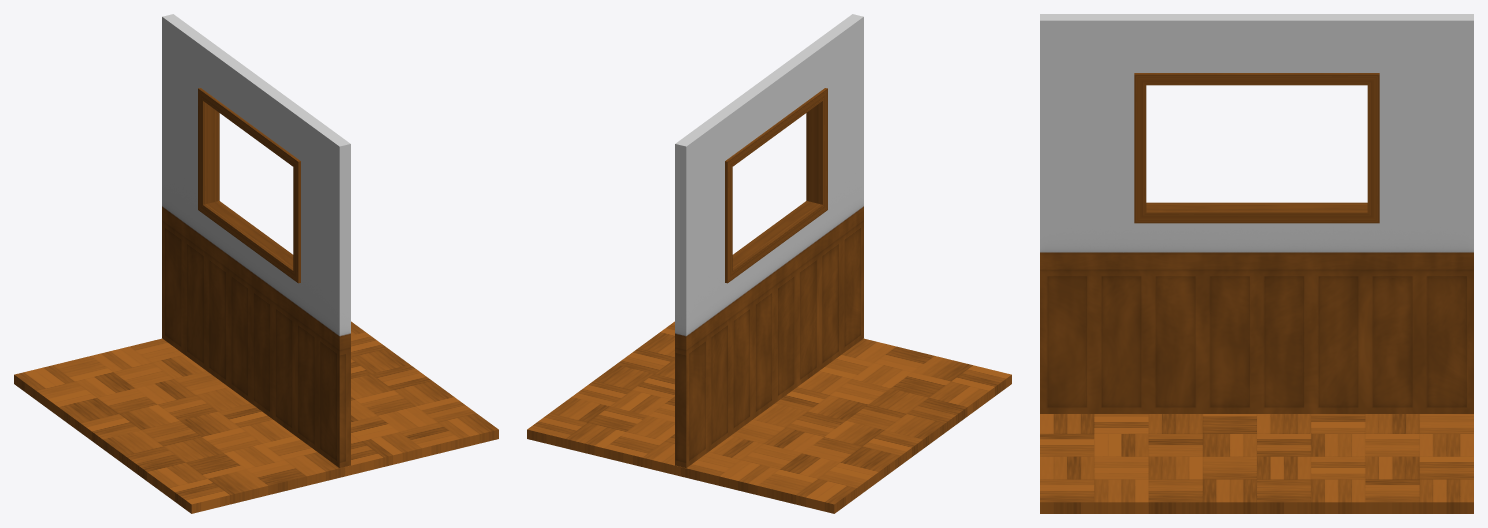
Rendered from window.glb.
3 renders of one model, left to right at view 1: azimuth 30°, elevation 25°; view 2: azimuth 150°, elevation 25°; view 3: azimuth 270°, elevation 25°, orthographic. The views are drawn at different scales.
Visible parts, largest first — view 1: floor; view 2: floor; view 3: floor.
Boxes of the visible parts, bbox=[...] form: floor: bbox=[14, 14, 498, 513]; floor: bbox=[527, 14, 1011, 513]; floor: bbox=[1040, 14, 1473, 513].
Bounding box in the file's own units: 2 × 2.06 × 2.
Materials: 2 (2 with a texture image).
